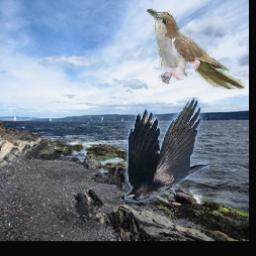Crow: (124, 97, 209, 202)
Cuckoo: (148, 8, 246, 89)
